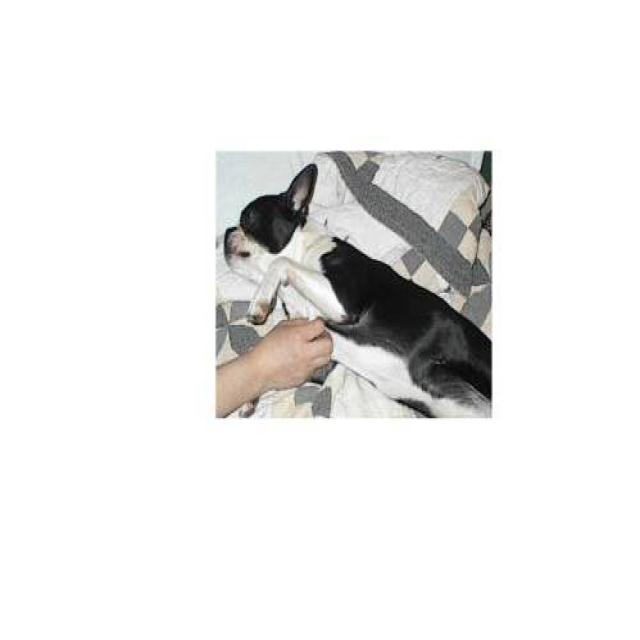dog: (222, 161, 491, 418)
